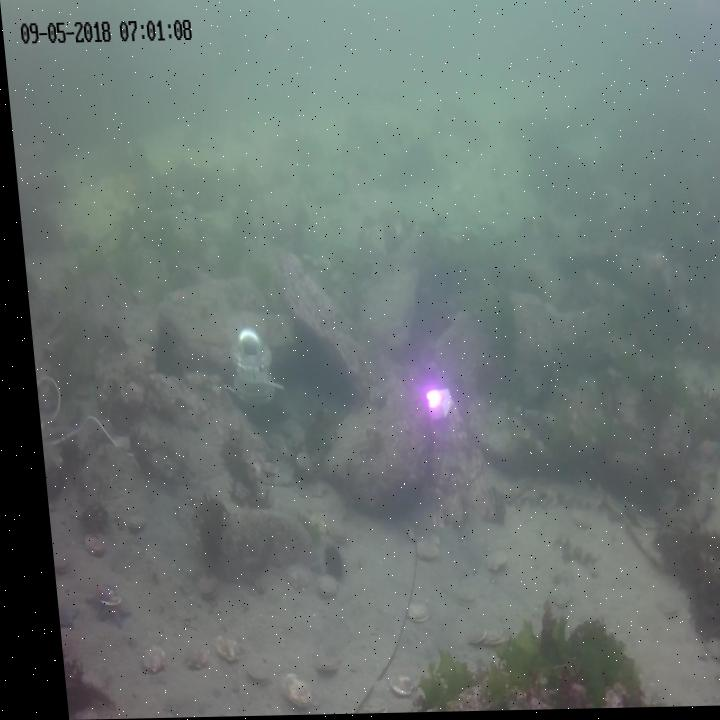echinus: (308, 540, 331, 576)
scallop: (269, 676, 301, 707), (388, 598, 419, 628), (298, 653, 330, 679), (202, 632, 231, 658), (125, 645, 151, 674), (166, 645, 196, 669), (373, 675, 403, 698), (70, 530, 93, 560), (405, 542, 432, 565), (472, 553, 496, 577), (184, 573, 209, 596), (233, 665, 258, 687), (303, 581, 330, 597), (470, 632, 492, 651), (452, 623, 470, 645)
starfish: (84, 598, 116, 624), (75, 575, 106, 601), (48, 596, 67, 630)
